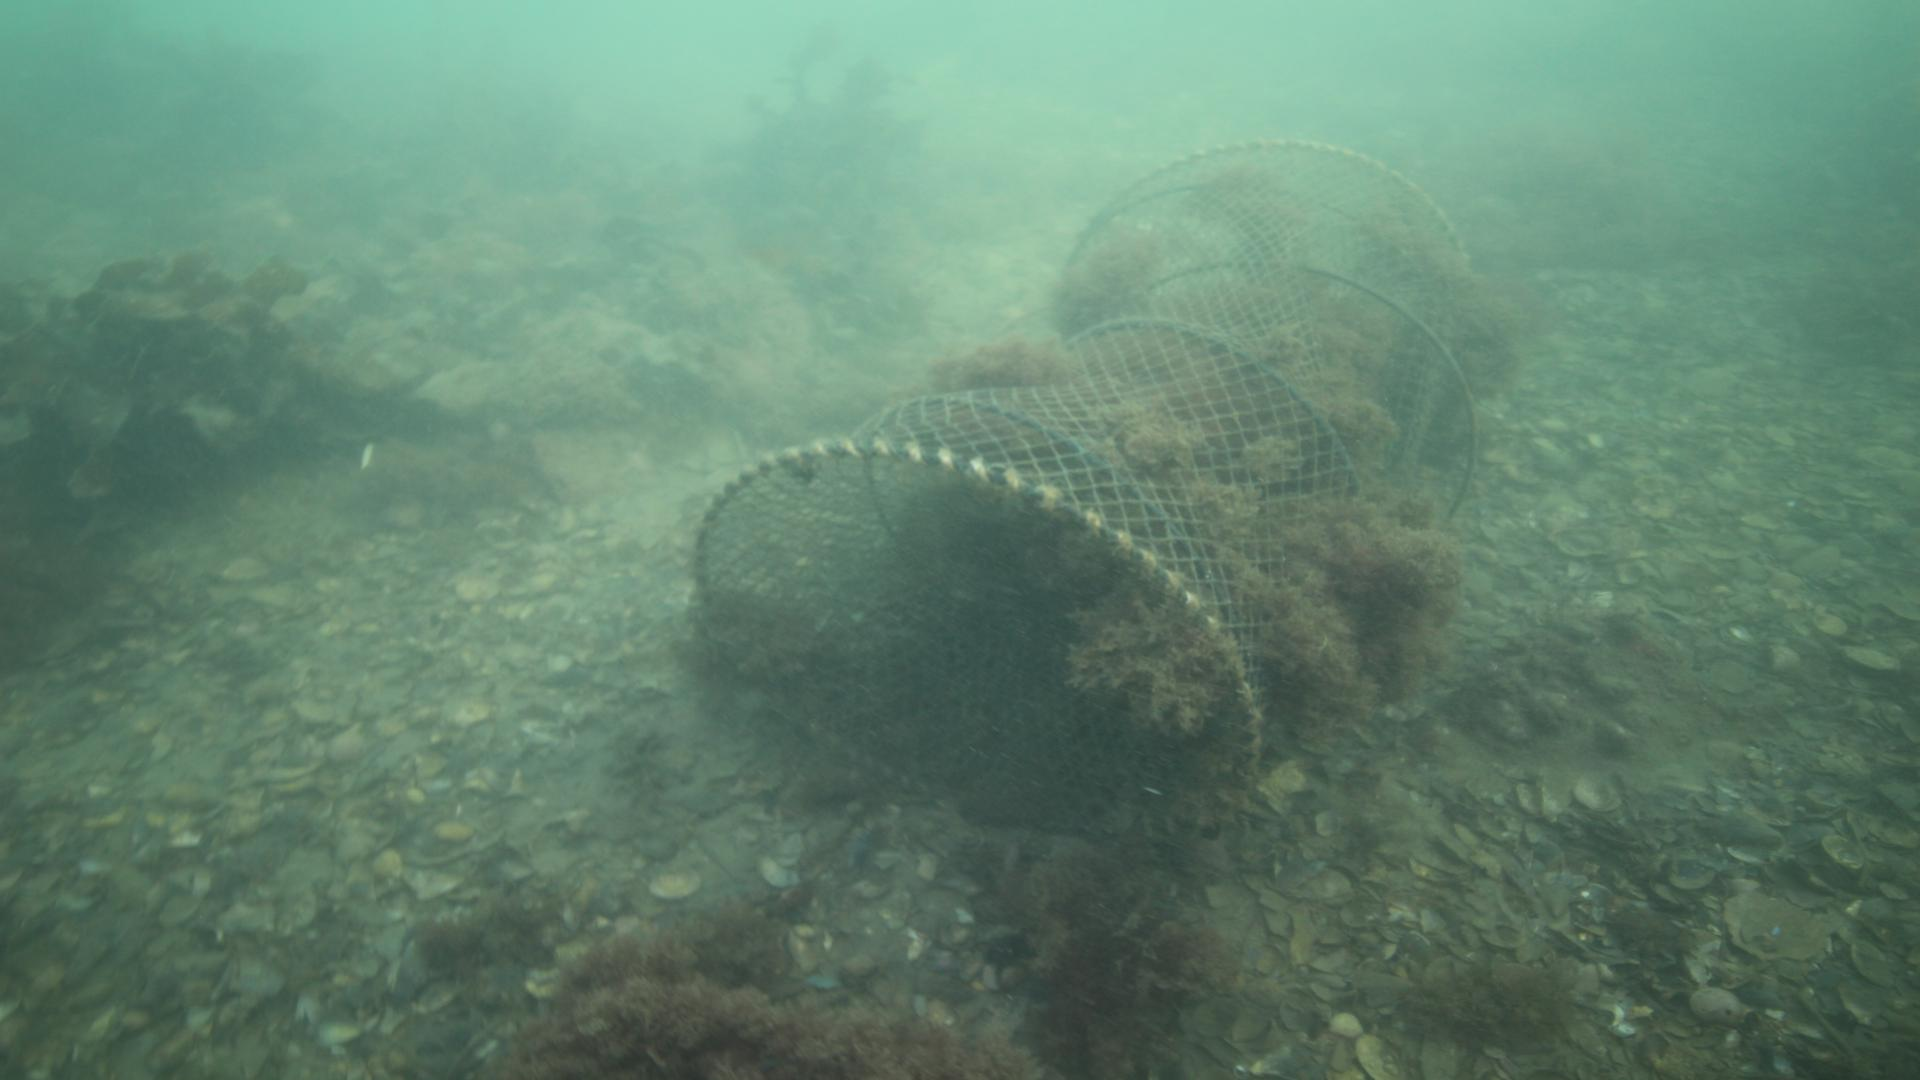spring fish trap: (688, 135, 1476, 837)
